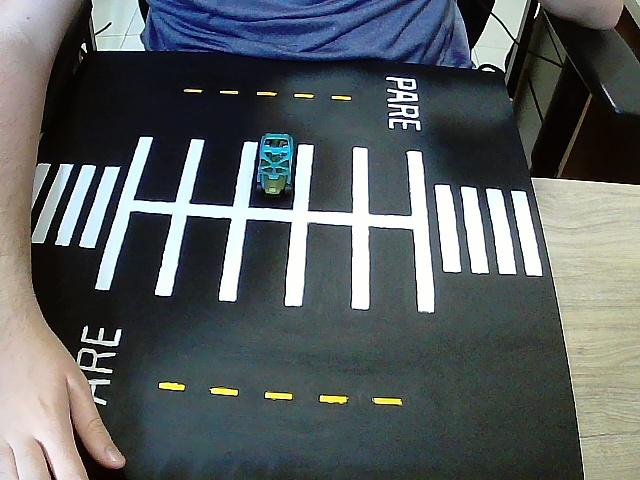Carro: (256, 133, 294, 200)
